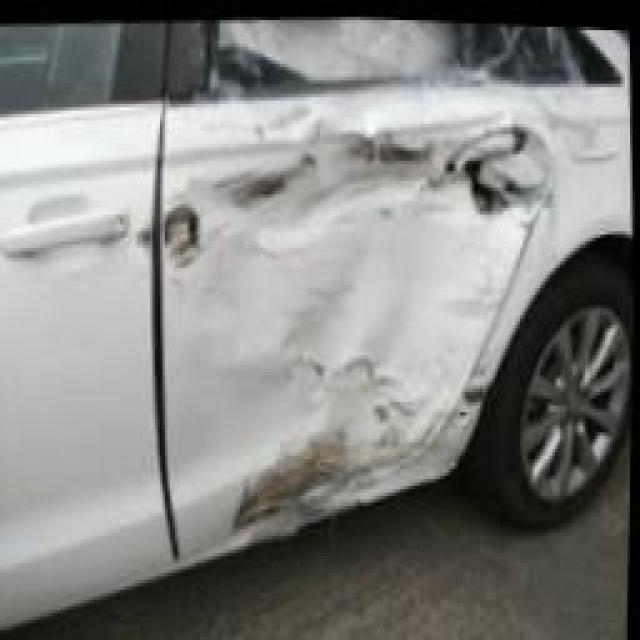Door: (122, 7, 600, 585)
